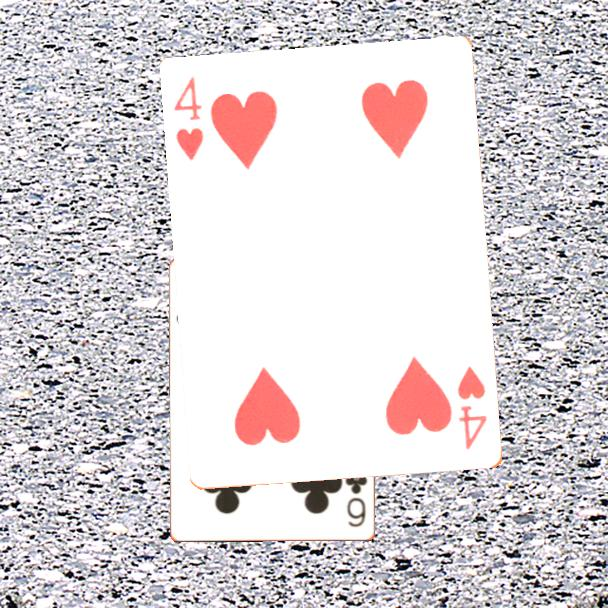c06: (343, 469, 370, 530)
h04: (454, 363, 491, 453), (171, 73, 207, 164)
